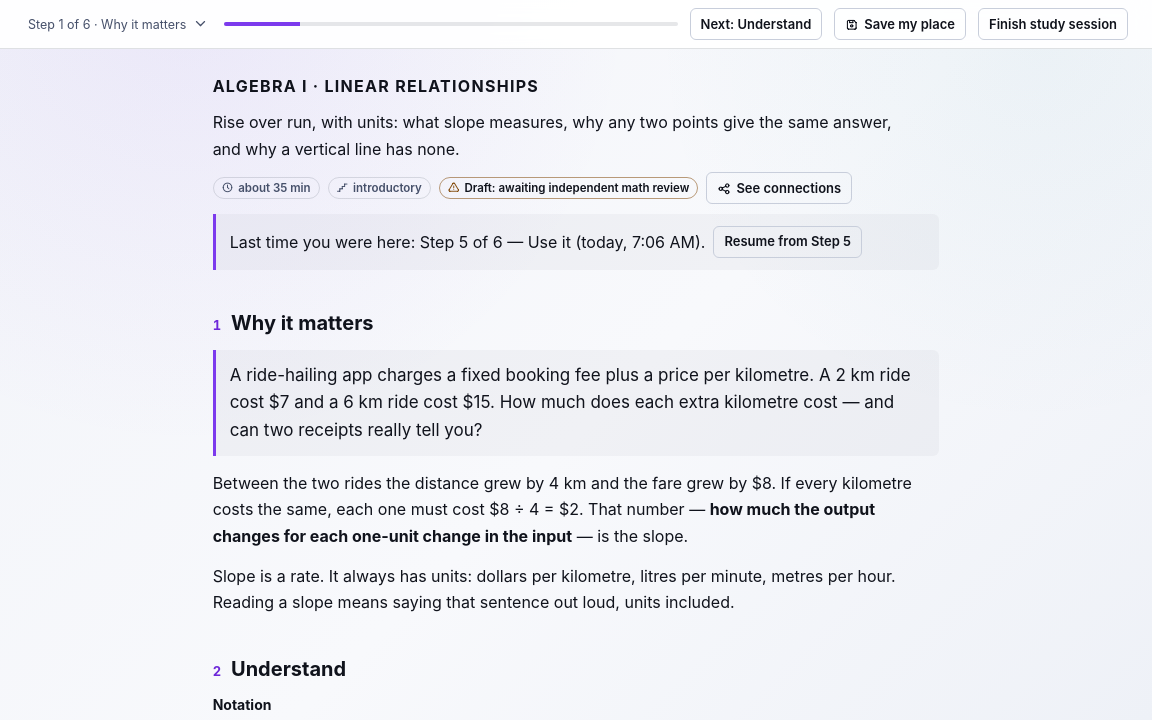
Test: Lesson › offers to resume a deeper place in this lesson when it opens at the top
Check: the heading "1 Why it matters" is shown, box x1=213 y1=311 x2=374 y2=335
Click the button "Resume from Step 5". click: (788, 242)
box: x1=714 y1=226 x2=862 y2=258
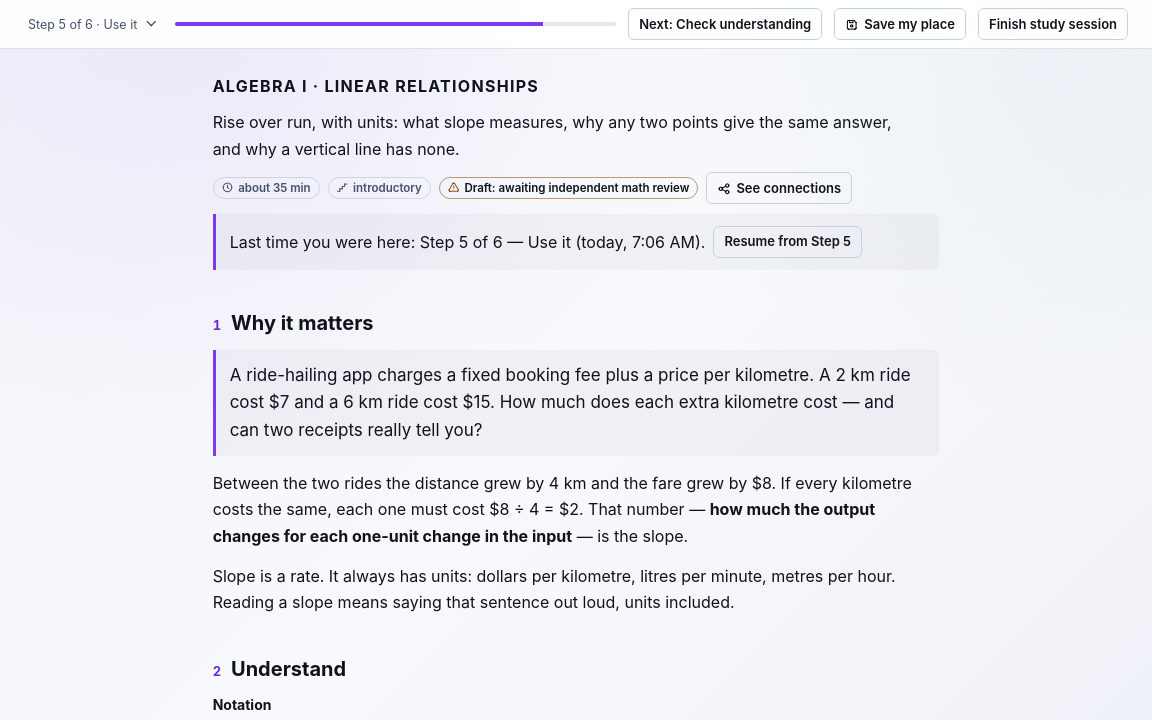
Check: the button "Step 5 of 6 · Use it" is shown, box x1=24 y1=10 x2=163 y2=38
